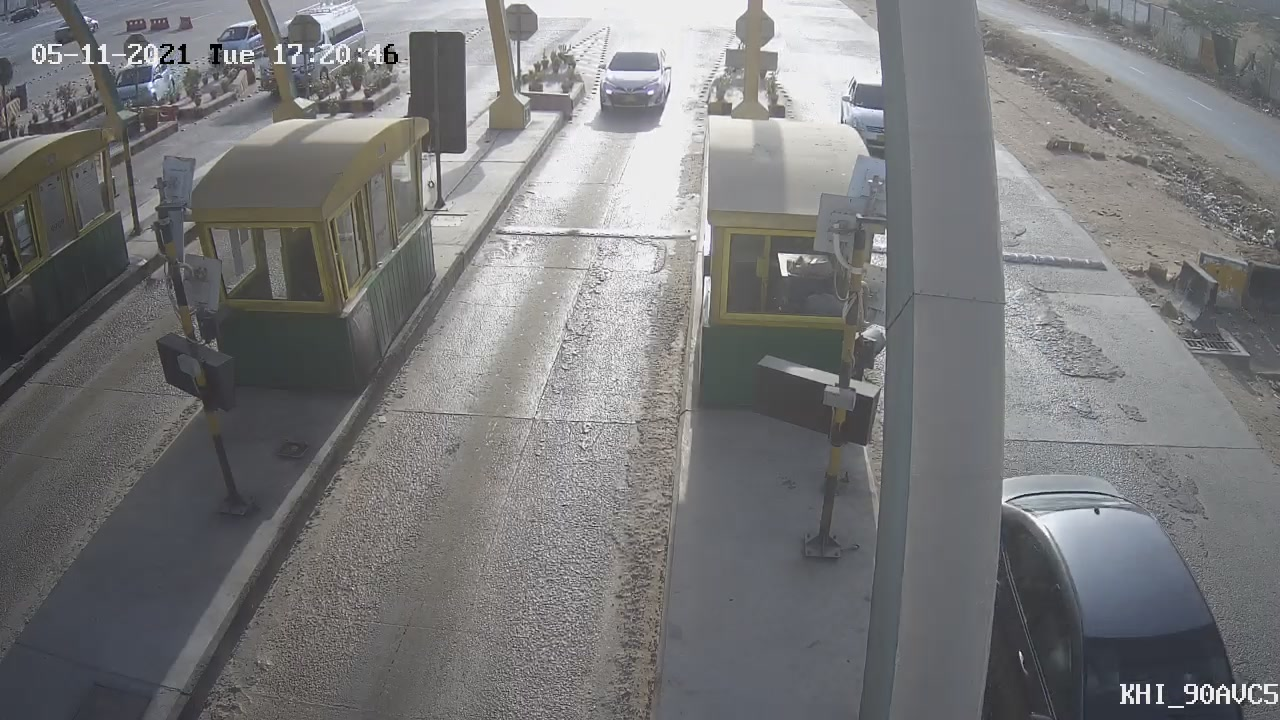F1: (583, 33, 686, 134)
